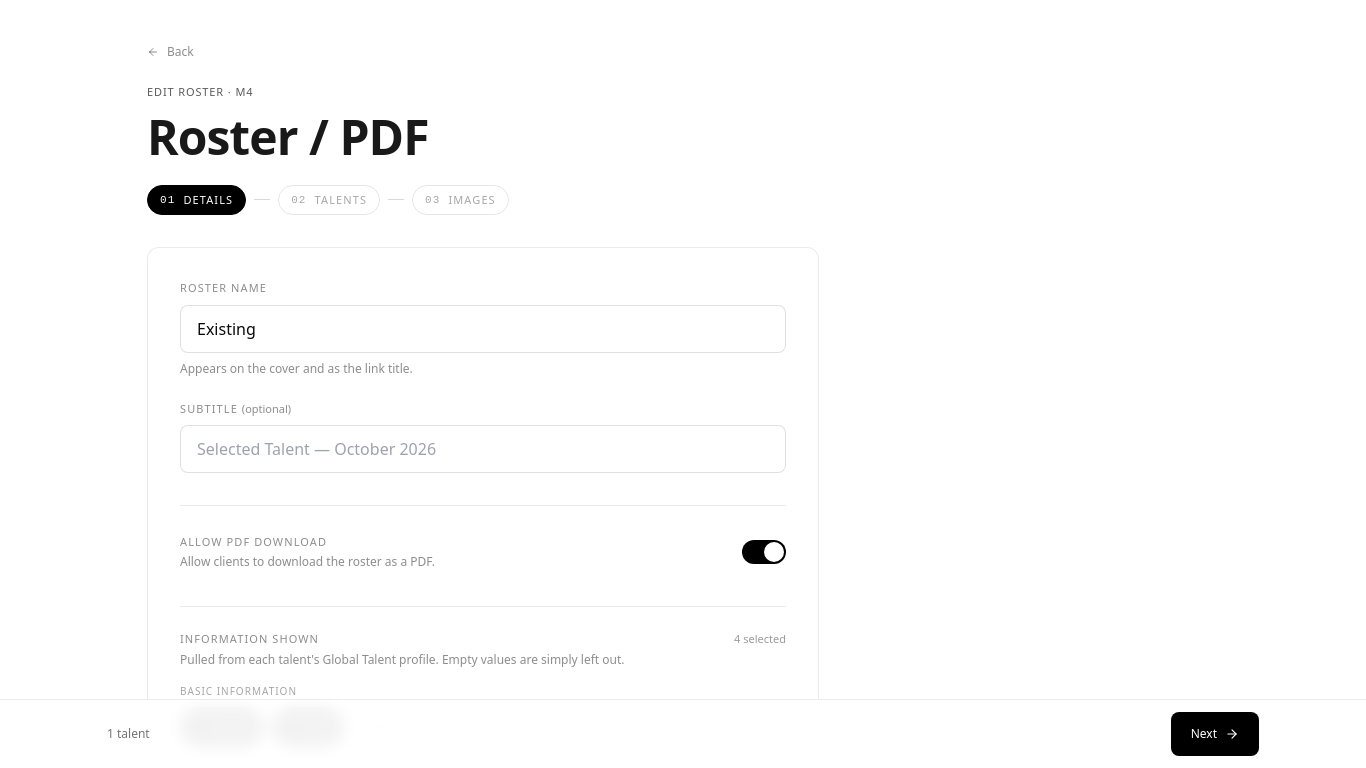
Test case: RosterBuilder — Allow PDF Download › reopening a roster saved ON shows ON, and it can be turned OFF in an edit
Expected: the element with test id "roster-pdf-setting" is shown, [180,505,786,574]
Expected: the field with test id "roster-title" holds "Existing", [180,304,786,352]
Click the switch with test id "roster-allow-pdf": (762, 552) [738,530,786,574]
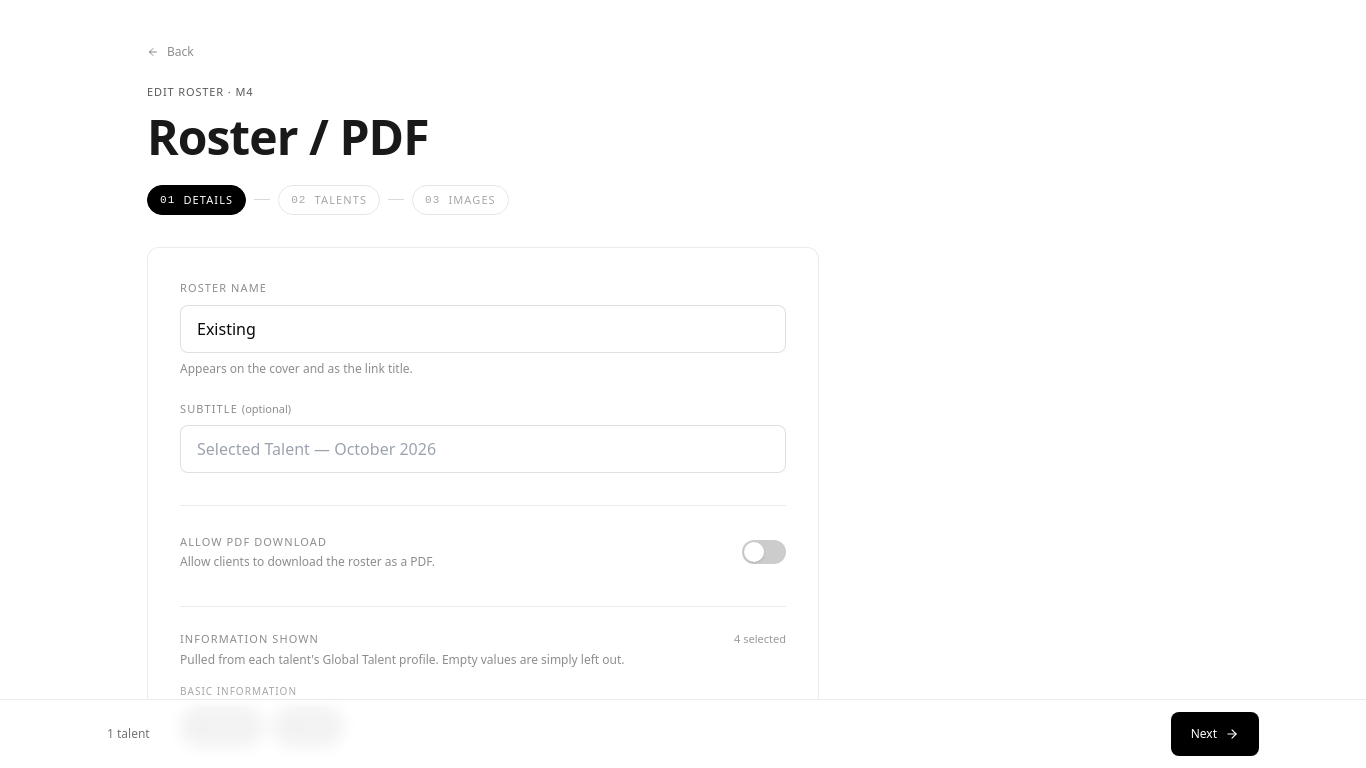
Click the button with test id "roster-next": (1215, 734) [1171,712,1259,756]
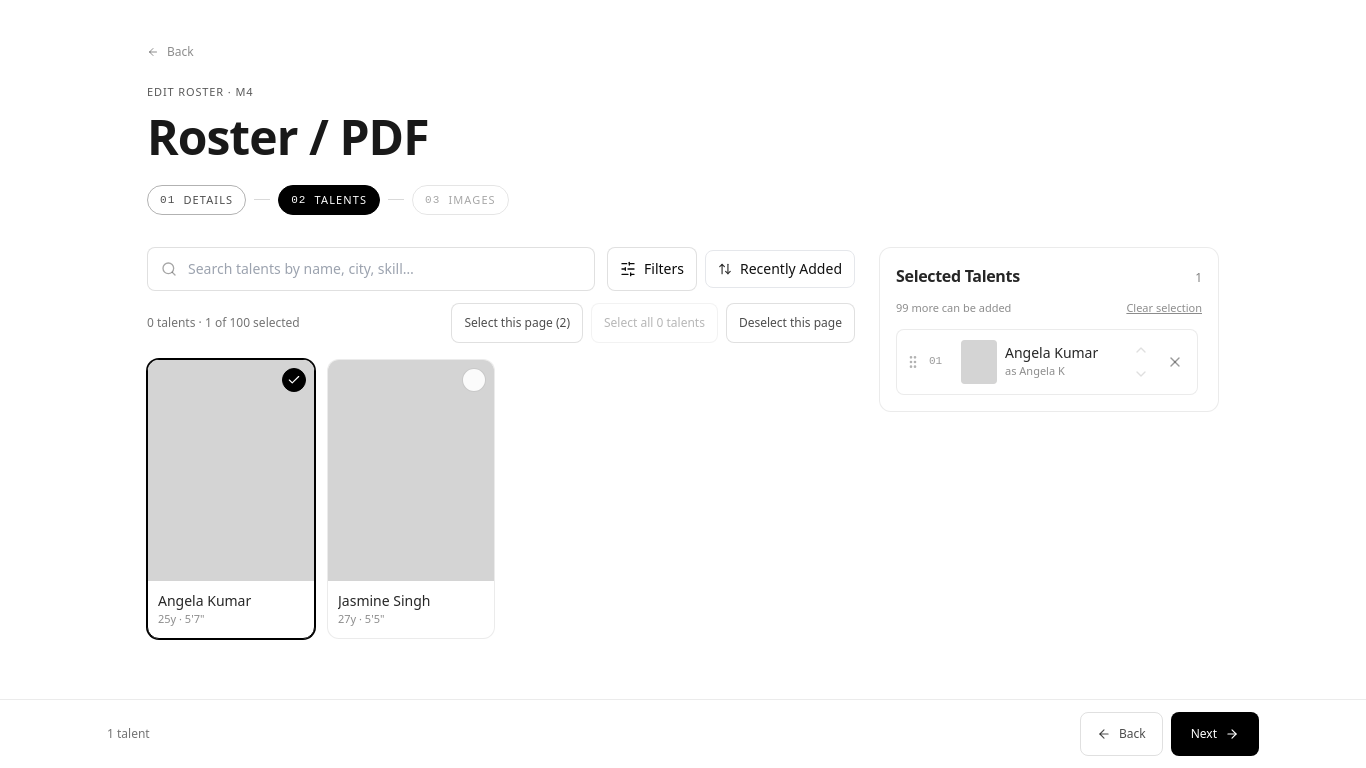
Click the button with test id "roster-next": (1215, 734) [1171,712,1259,756]
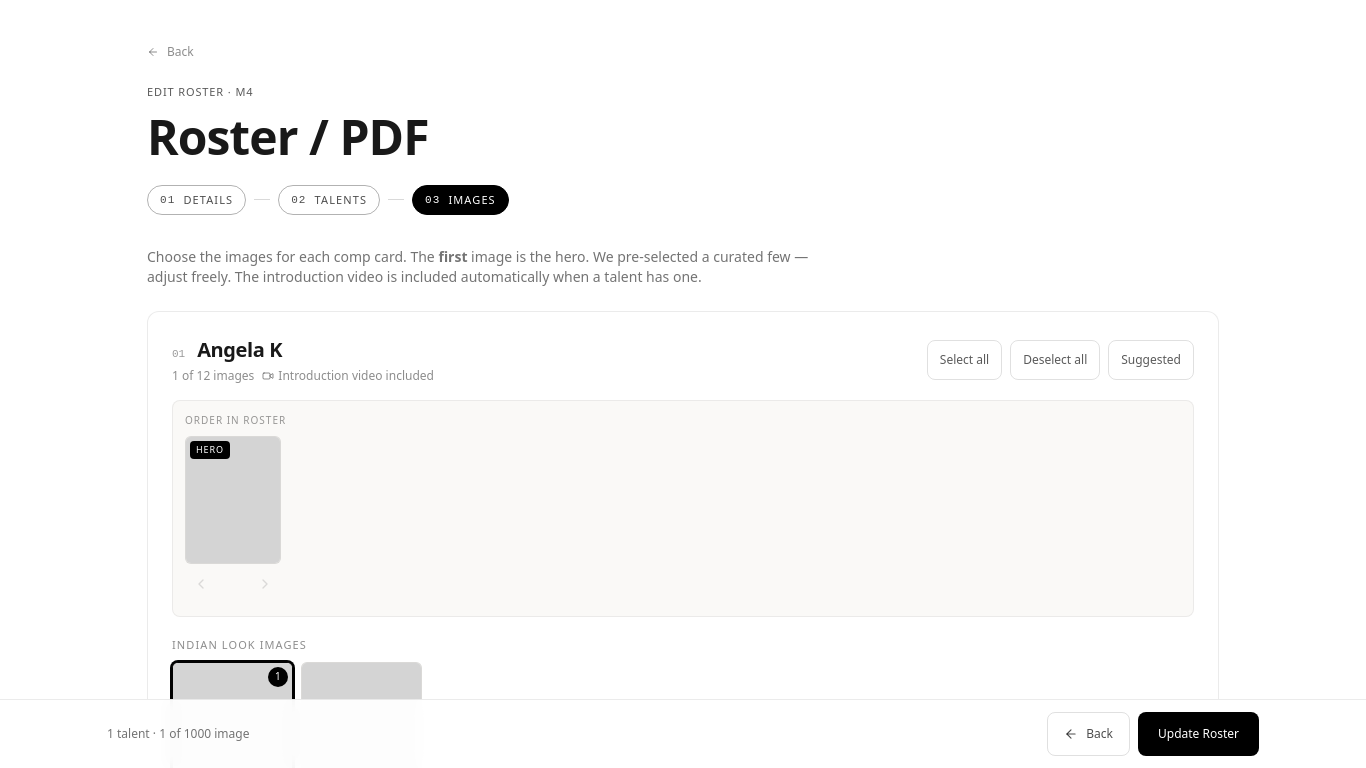
Click the button with test id "roster-save": (1198, 734) [1138,712,1259,756]
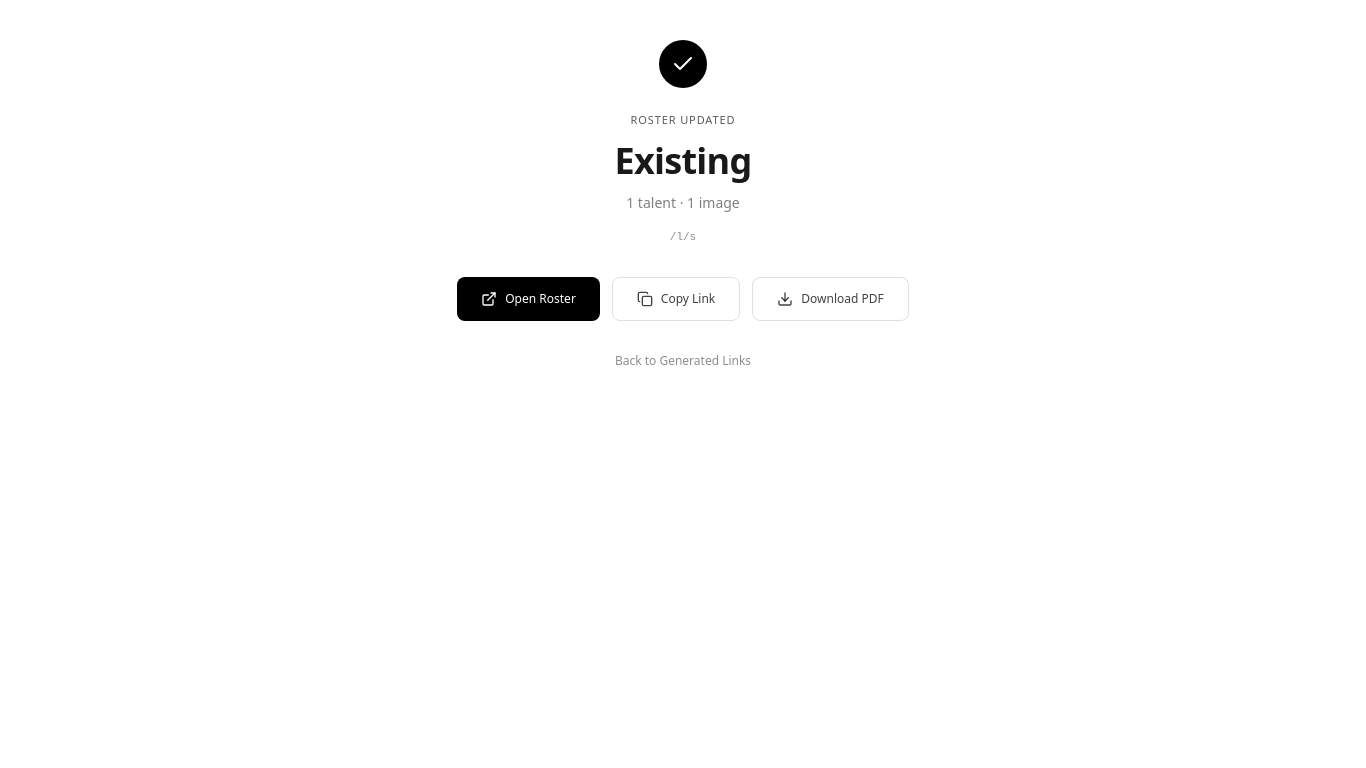
Now the element with test id "roster-created" is shown, box [457,40,909,369]
